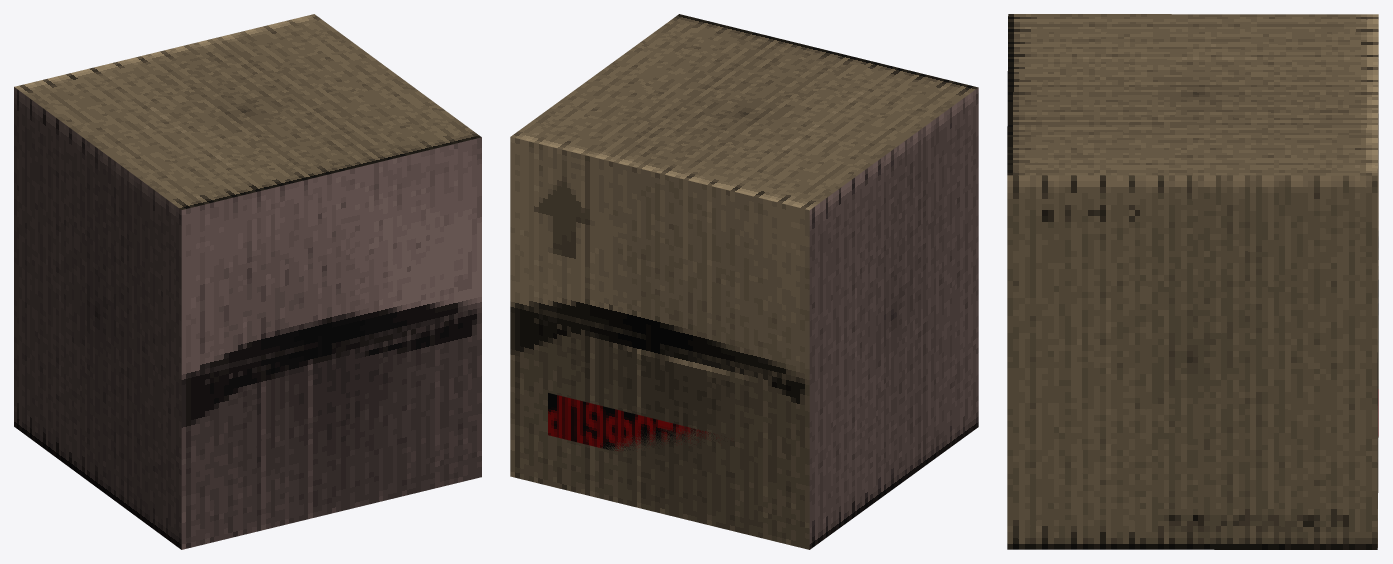
The model's file is primary_207.glb.
3 renders of one model, left to right at view 1: azimuth 30°, elevation 25°; view 2: azimuth 150°, elevation 25°; view 3: azimuth 270°, elevation 25°, orthographic. The views are drawn at different scales.
Visible parts, largest first — view 1: Object; view 2: Object; view 3: Object.
Boxes of the visible parts, x1,y1,x2,y2 form: Object: (14, 14, 481, 549); Object: (510, 14, 978, 549); Object: (1007, 14, 1378, 549).
Bounding box in the file's own units: 0.785 × 0.8482 × 0.7629.
7 materials, 7 textured.
